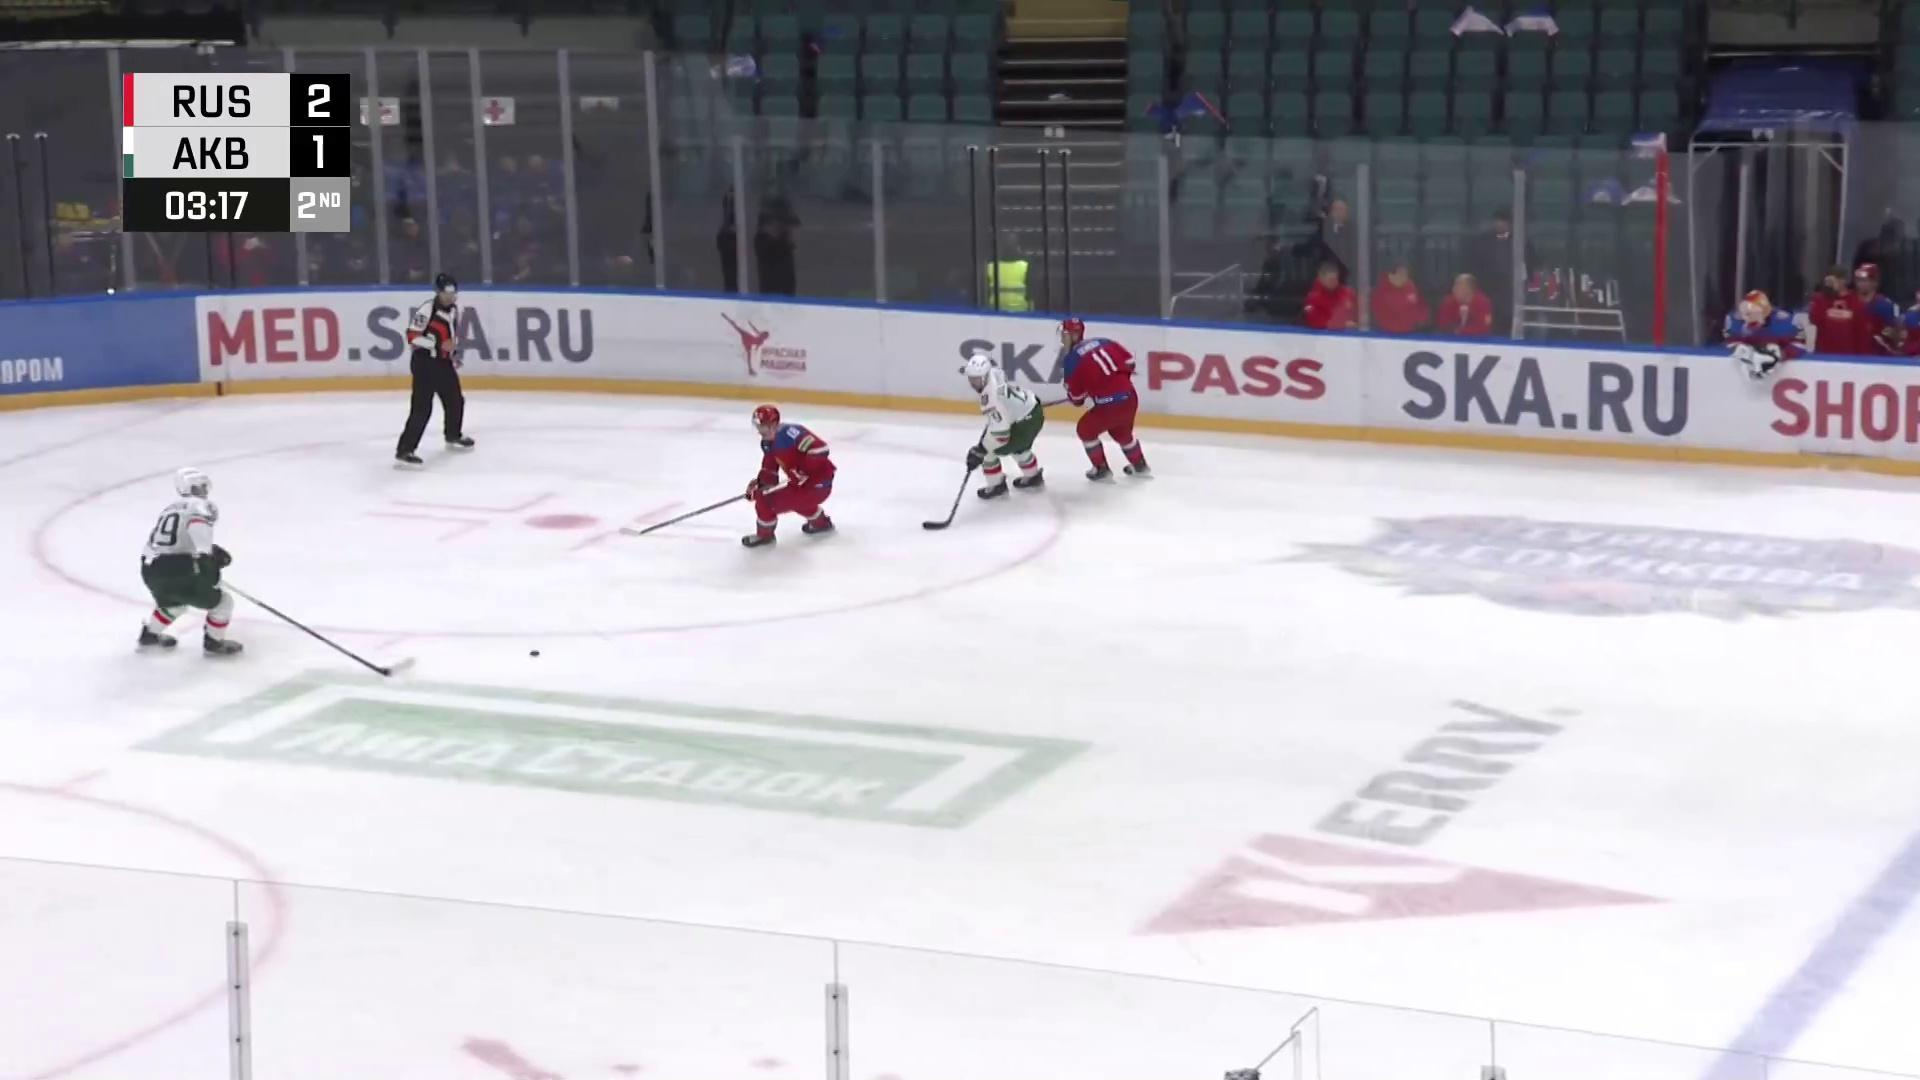ball: (530, 650, 539, 658)
